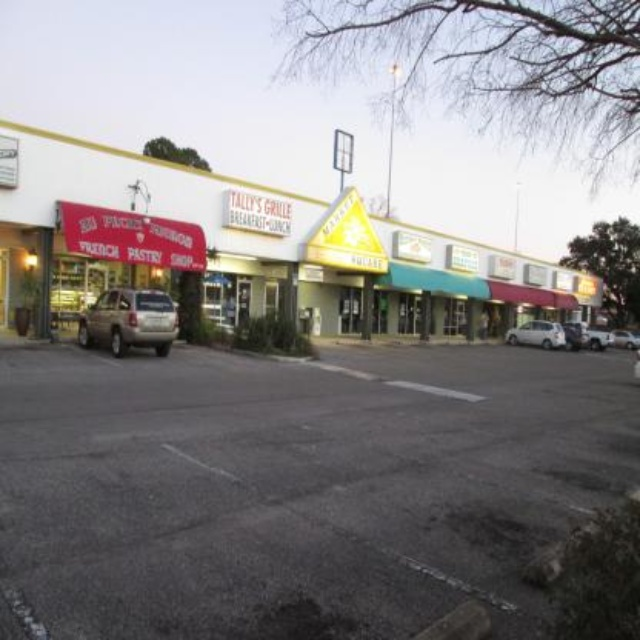Car: (78, 285, 178, 357), (505, 318, 567, 351), (563, 322, 587, 347), (613, 331, 638, 349), (633, 352, 640, 387)
